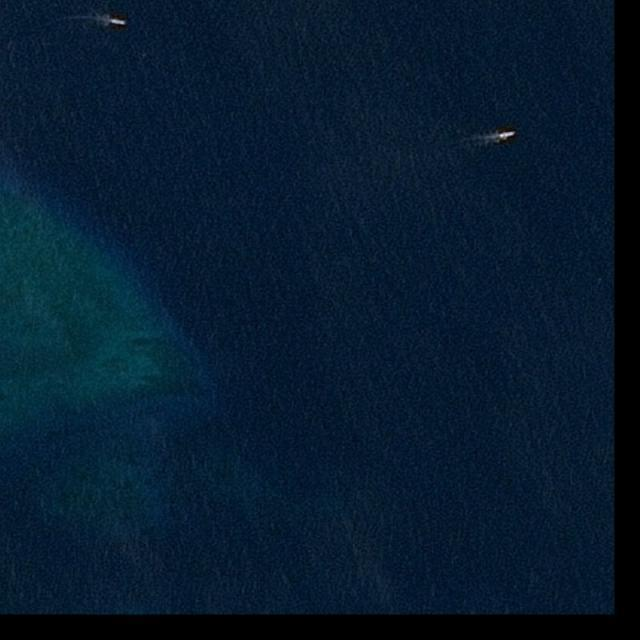ship: (499, 131, 516, 140), (110, 18, 128, 26)
